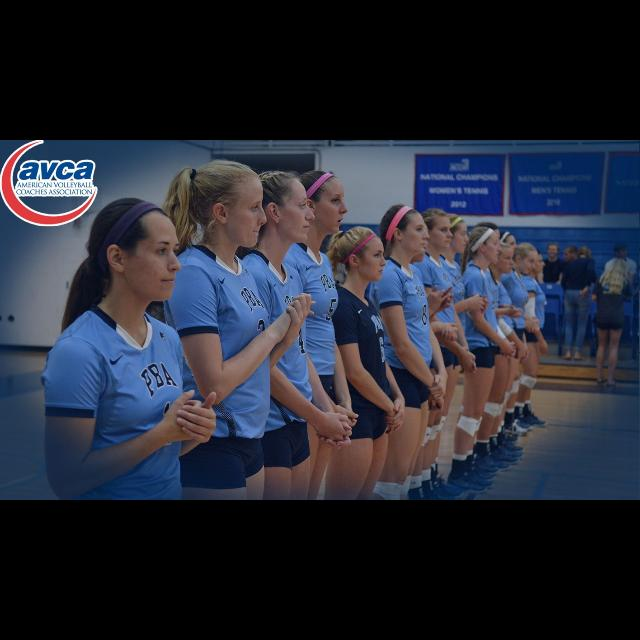head: (92, 200, 184, 304), (192, 161, 268, 249), (254, 171, 316, 245), (294, 170, 350, 236), (335, 224, 387, 284), (379, 204, 431, 256), (466, 226, 504, 264), (422, 208, 454, 250), (472, 221, 503, 261), (491, 242, 517, 276), (513, 243, 539, 275), (492, 242, 516, 274), (528, 248, 546, 274), (609, 259, 625, 277), (564, 245, 578, 263), (546, 243, 560, 259), (616, 244, 628, 260), (578, 247, 592, 260)
person: (443, 224, 517, 496), (446, 241, 524, 481), (465, 220, 513, 474), (486, 241, 542, 439), (485, 230, 527, 464), (504, 246, 552, 434), (588, 256, 636, 390), (559, 245, 597, 363), (602, 241, 640, 355), (556, 244, 596, 346), (534, 243, 568, 347)
